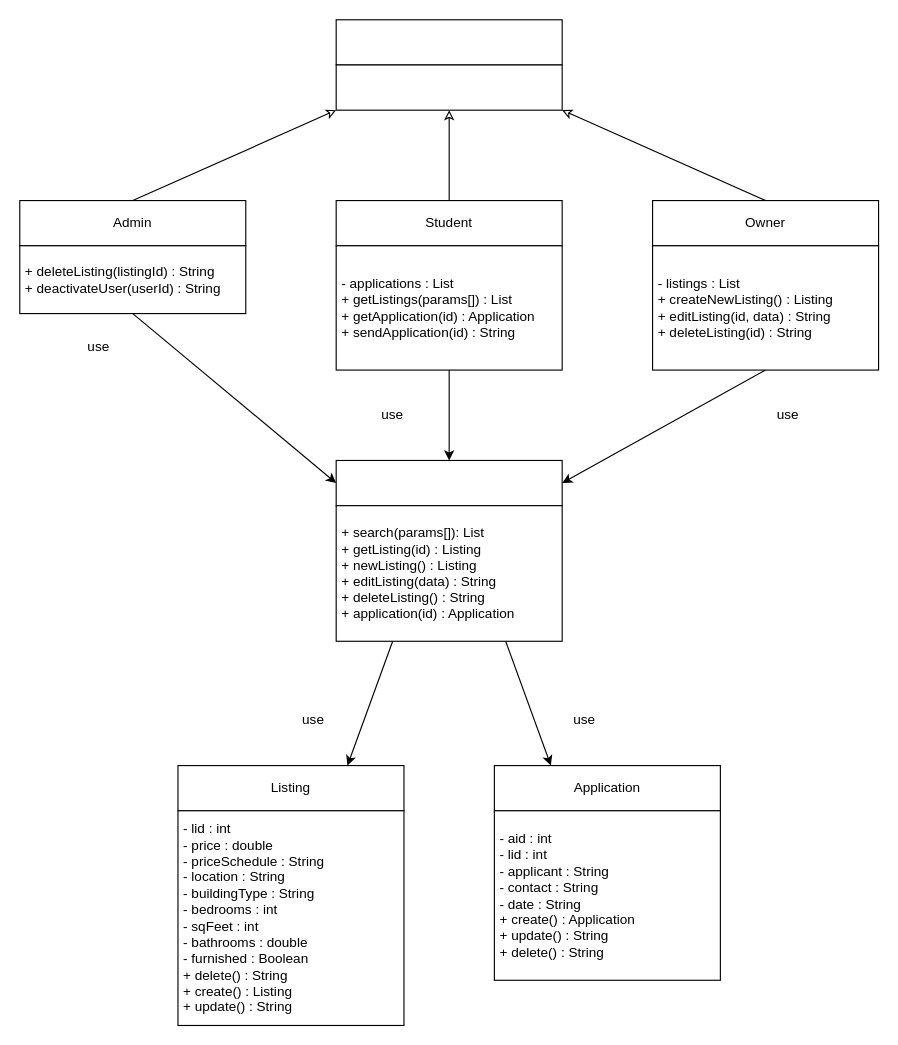
The diagram is 898 pixels wide and 1045 high, and some of its shapes have lost their labels. Each missing label, with the box of its shape:
- userId : int: (335, 64, 562, 110)
Controller: (335, 459, 562, 506)
User: (335, 19, 562, 65)
